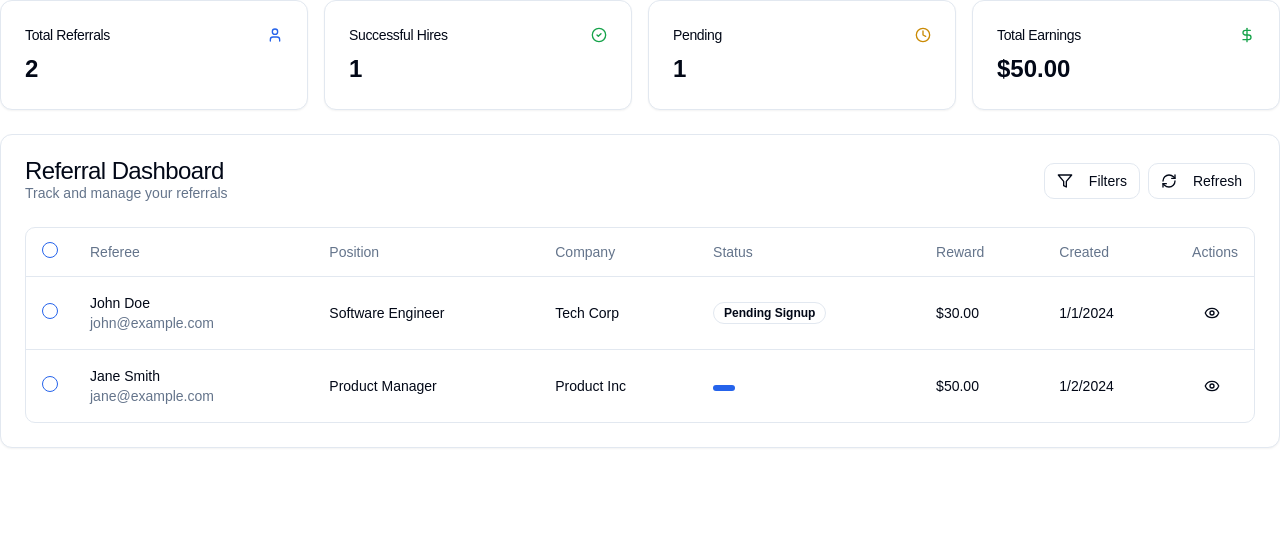
Test: ReferralDashboard › handles select all functionality
The image size is (1280, 547).
expect the text "John Doe" is shown: met, box top-left (90, 294), bottom-right (150, 310)
# Select all
Click the checkbox next to "Referee": (50, 250) top-left (42, 242), bottom-right (58, 258)
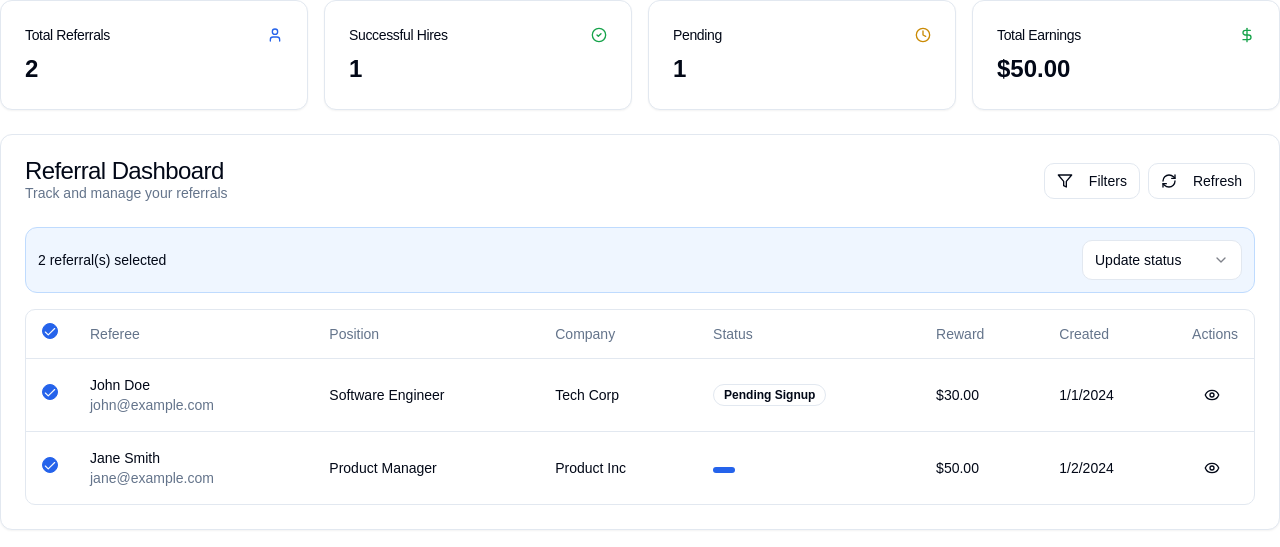
expect the text "2 referral(s) selected" is shown: met, box top-left (38, 250), bottom-right (166, 270)
